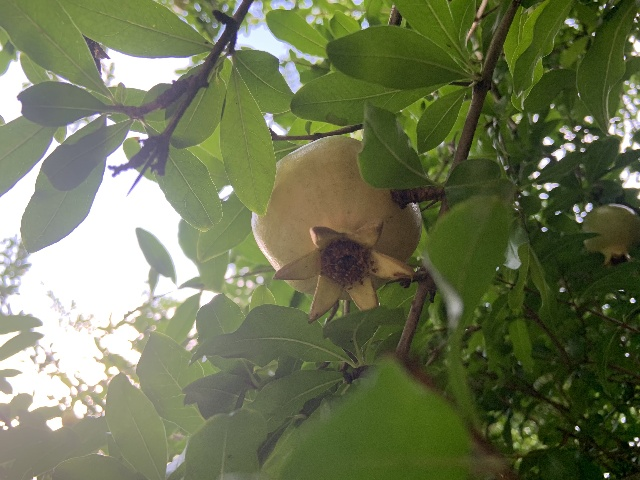mid-growth: (251, 134, 423, 323), (582, 204, 639, 266)
